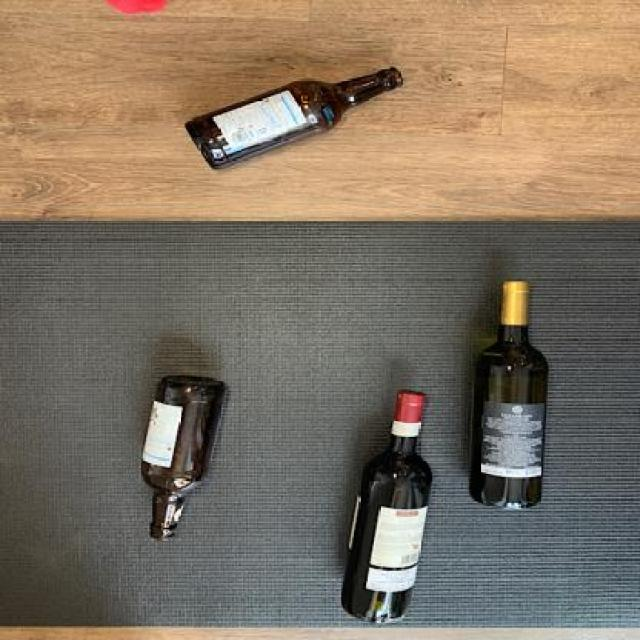trash: (335, 390, 442, 628), (183, 65, 408, 172), (464, 279, 548, 512), (135, 370, 230, 548)
